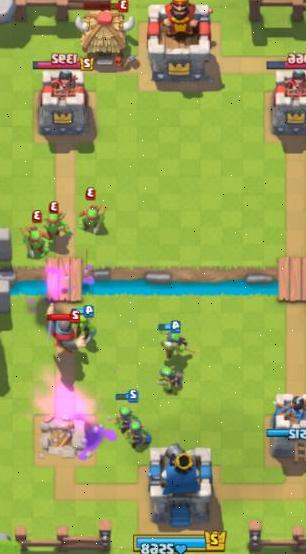enemy_goblin_hut: (74, 0, 137, 70)
enemy_knight: (38, 303, 101, 356)
enemy_spear_goblins: (76, 191, 112, 234), (20, 219, 54, 256), (39, 202, 73, 238)
player_goblins: (73, 301, 99, 345)
player_spear_goblins: (157, 318, 195, 358), (113, 393, 141, 430), (126, 418, 154, 451), (154, 365, 187, 393)
